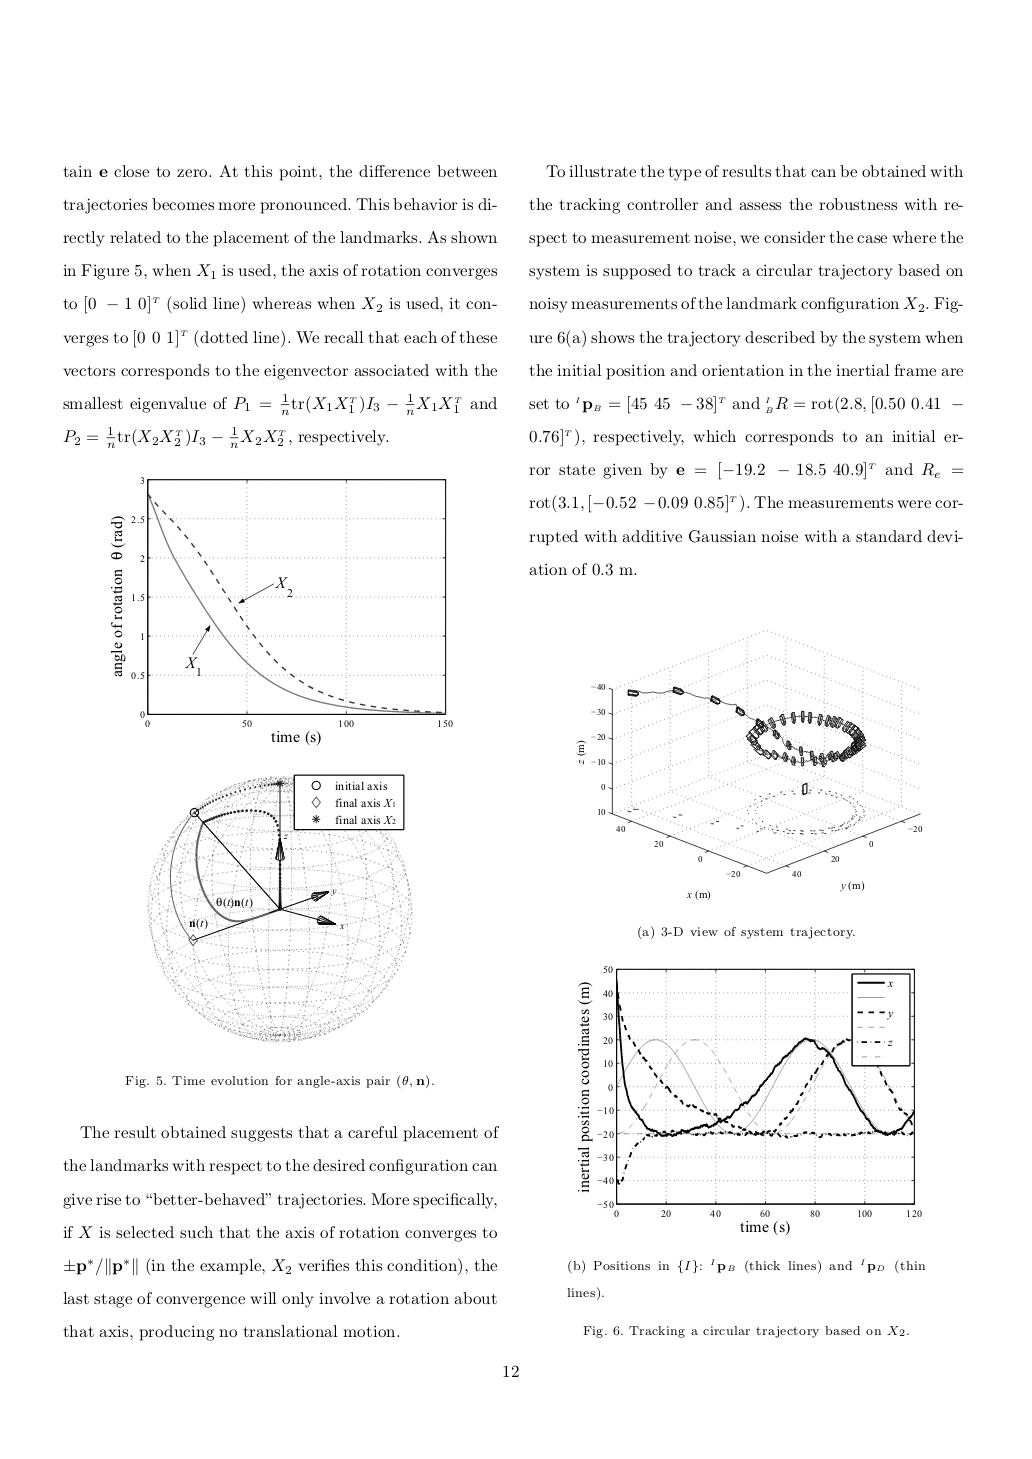figure: (576, 630, 923, 900), (579, 966, 921, 1235), (111, 477, 452, 745), (147, 772, 412, 1043)
